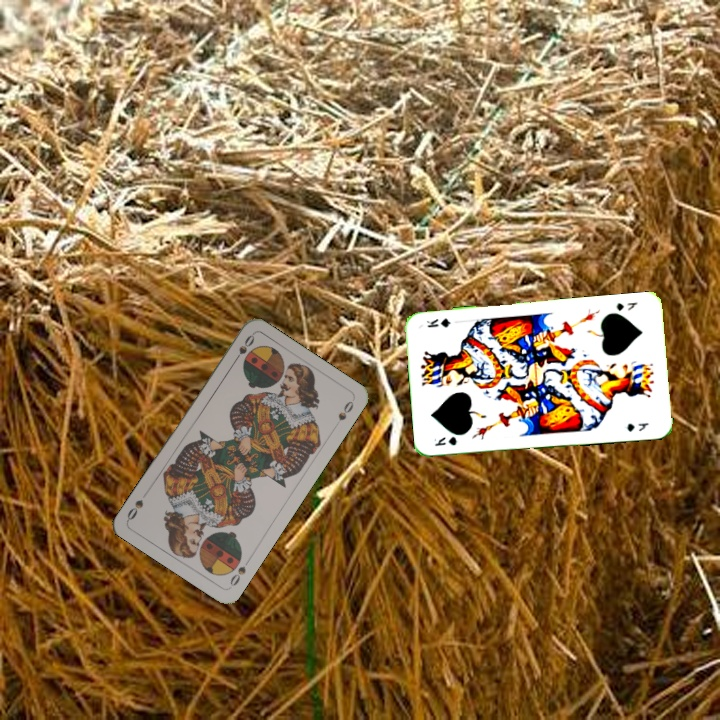GK: (430, 432, 459, 449), (612, 298, 640, 313)
SO: (229, 330, 257, 367), (226, 562, 249, 589)
